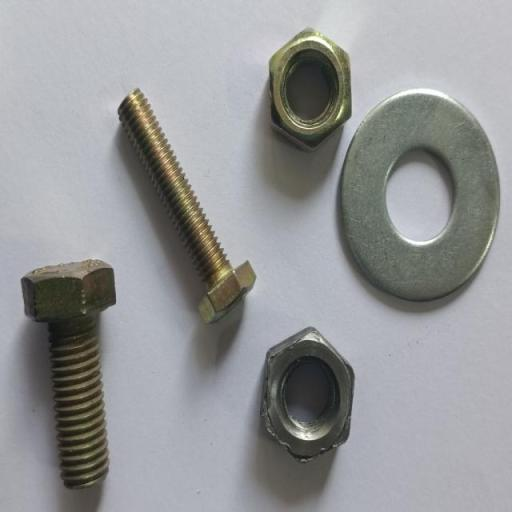Bolt: (116, 87, 258, 326), (20, 260, 117, 489)
Nut: (258, 327, 356, 464), (267, 27, 353, 153)
Washer: (337, 87, 503, 305)
